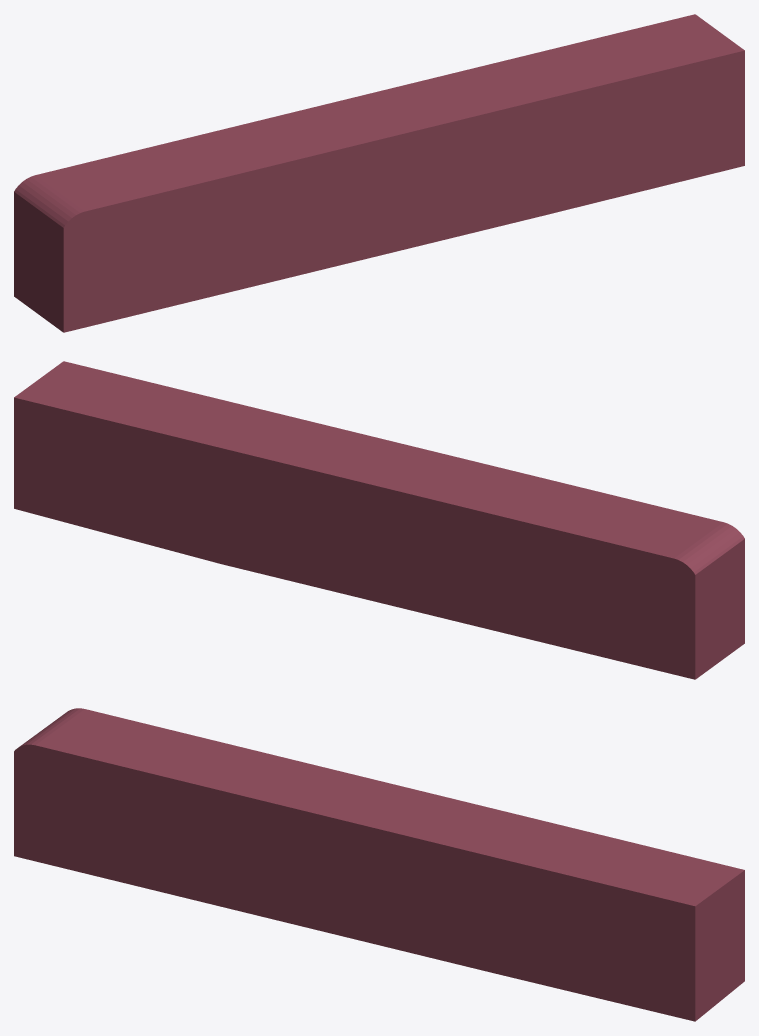
The picture shows the model from 3 angles, top to bottom: view 1: azimuth 30°, elevation 25°; view 2: azimuth 150°, elevation 25°; view 3: azimuth 330°, elevation 25°; orthographic projection.
Visible parts, largest first — view 1: decomp_13.obj; view 2: decomp_13.obj; view 3: decomp_13.obj.
Part boxes in pixels (<box>): decomp_13.obj: <box>14,14,744,332</box>; decomp_13.obj: <box>14,361,744,679</box>; decomp_13.obj: <box>14,708,744,1021</box>.
Size of the model in its own units: 0.0602 by 0.0098 by 0.0076.
